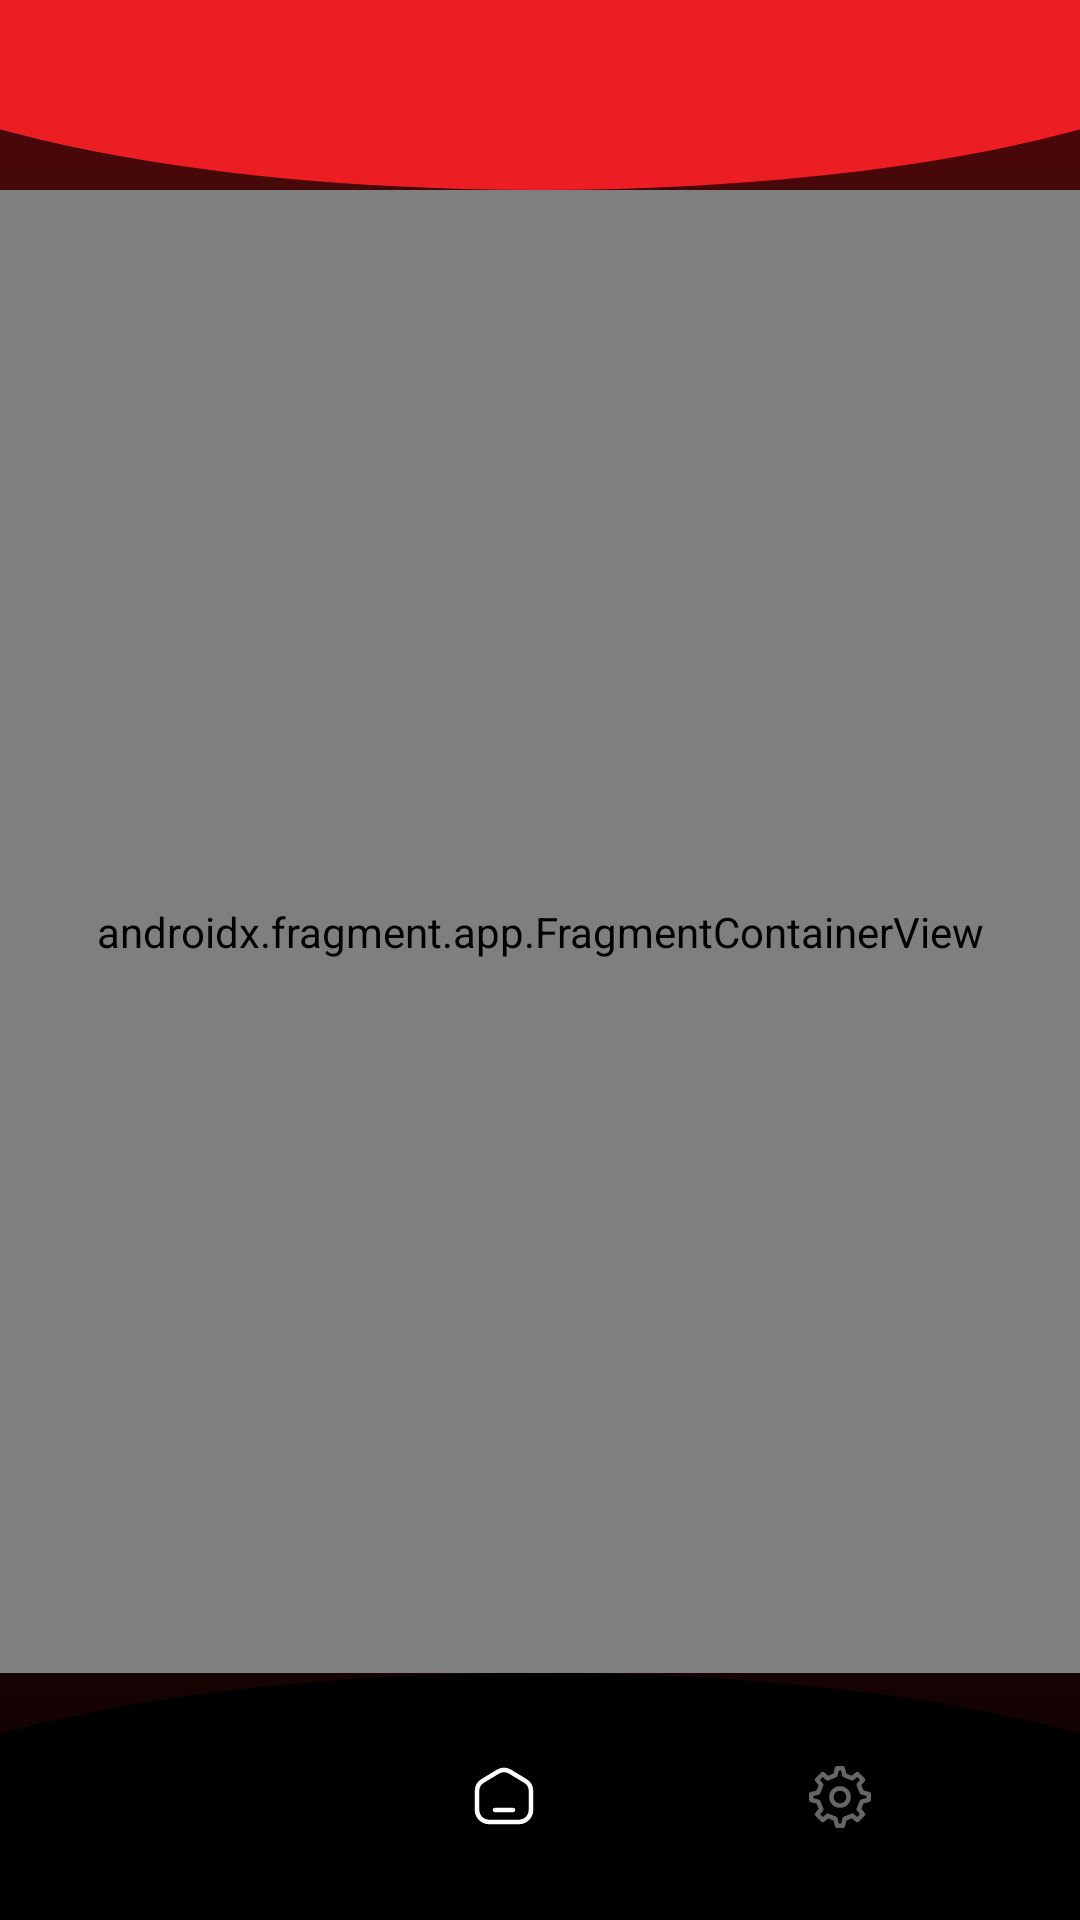

Screen size 1080 × 1920. Icon name, then its center in pixels as [x,y]:
home: [504,1796]
settings: [840,1797]
